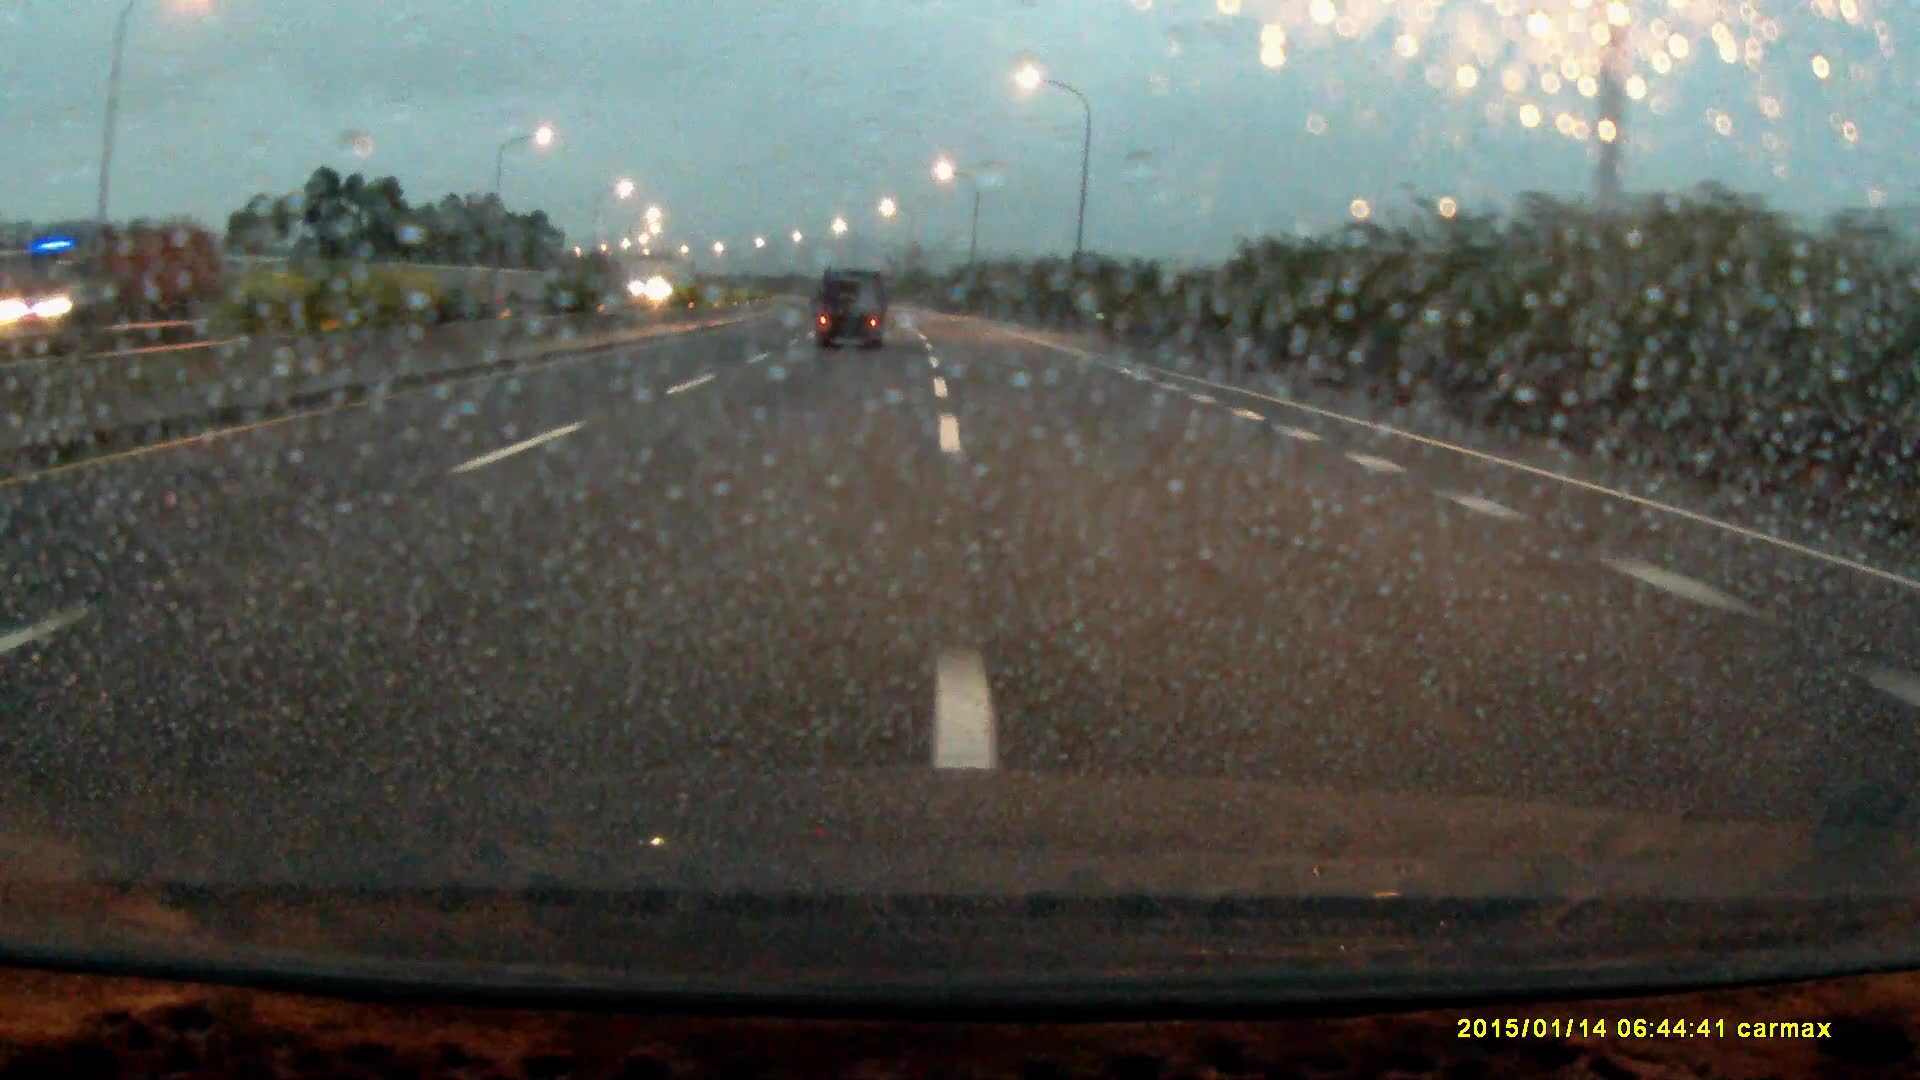vehicle: (22, 227, 237, 324), (812, 266, 887, 351)
